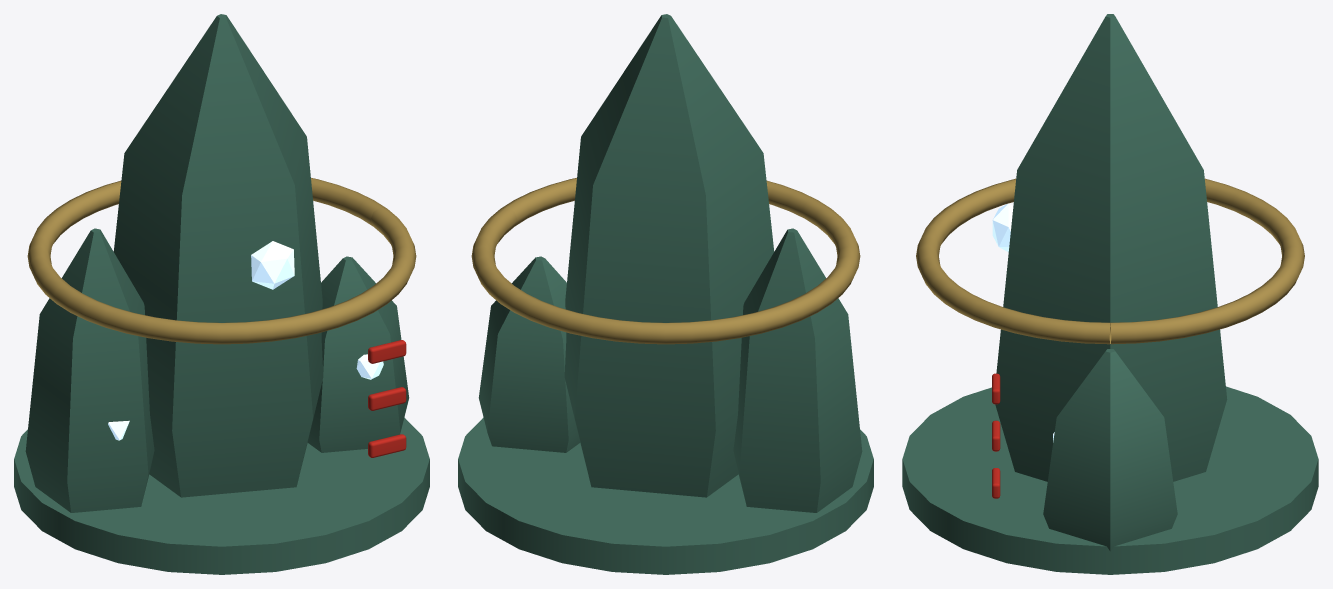
3 renders of one model, left to right at view 1: azimuth 30°, elevation 25°; view 2: azimuth 150°, elevation 25°; view 3: azimuth 270°, elevation 25°, orthographic.
Parts seen in each view (by area): view 1: Faceted crystal tower, Foundation drum, Faceted crystal tower.002, Crystal conductive halo, Faceted crystal tower.001, Central luminous node, Crystal red identifying inset, Crystal red identifying inset.001, Crystal red identifying inset.002; view 2: Faceted crystal tower, Foundation drum, Faceted crystal tower.002, Crystal conductive halo, Faceted crystal tower.001; view 3: Faceted crystal tower, Foundation drum, Faceted crystal tower.001, Crystal conductive halo, Central luminous node.
Part boxes in pixels (bbox=[...]): Faceted crystal tower: bbox=[113, 14, 323, 497]; Foundation drum: bbox=[14, 417, 429, 574]; Faceted crystal tower.002: bbox=[25, 228, 154, 512]; Crystal conductive halo: bbox=[27, 178, 416, 344]; Faceted crystal tower.001: bbox=[307, 256, 409, 452]; Central luminous node: bbox=[251, 241, 294, 289]; Crystal red identifying inset: bbox=[368, 434, 406, 457]; Crystal red identifying inset.001: bbox=[368, 387, 406, 410]; Crystal red identifying inset.002: bbox=[368, 340, 406, 363]; Faceted crystal tower: bbox=[564, 14, 774, 497]; Foundation drum: bbox=[458, 417, 873, 574]; Faceted crystal tower.002: bbox=[733, 228, 862, 512]; Crystal conductive halo: bbox=[471, 178, 860, 344]; Faceted crystal tower.001: bbox=[478, 256, 580, 452]; Faceted crystal tower: bbox=[995, 14, 1227, 481]; Foundation drum: bbox=[902, 386, 1318, 574]; Faceted crystal tower.001: bbox=[1043, 349, 1177, 551]; Crystal conductive halo: bbox=[916, 178, 1304, 344]; Central luminous node: bbox=[992, 203, 1013, 251].
Bounding box in the file's own units: 2.04 × 2.5 × 2.
